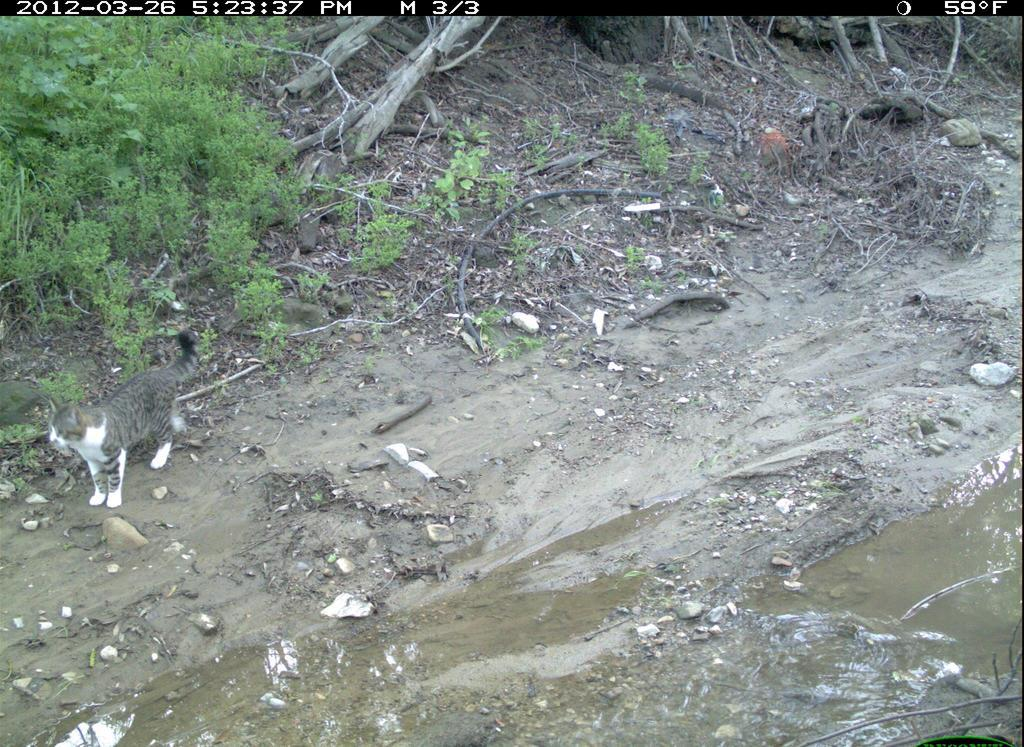cat: (40, 327, 219, 509)
